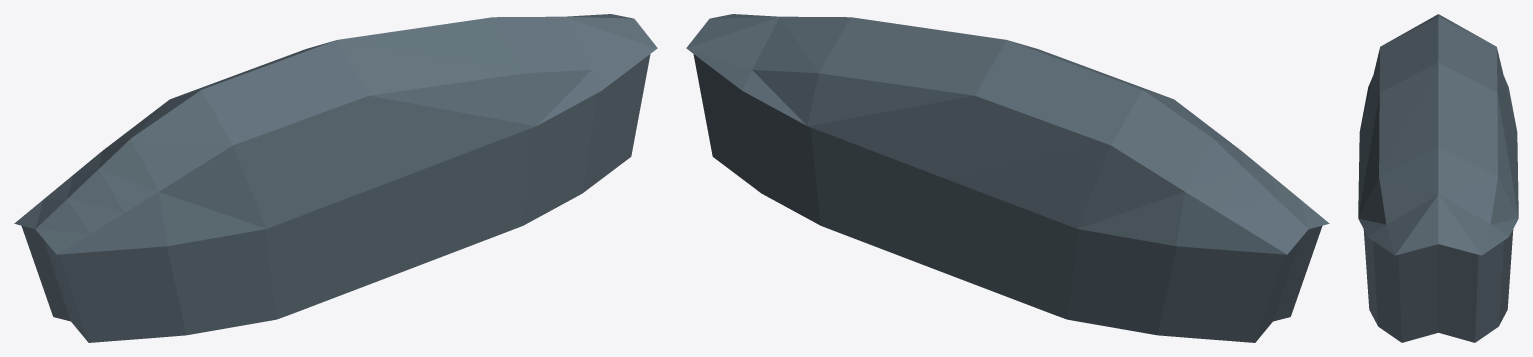
File: f18.glass.glb
3 views of the same model, side by side, from view 1: azimuth 30°, elevation 25°; view 2: azimuth 150°, elevation 25°; view 3: azimuth 270°, elevation 25° (orthographic). The views are drawn at different scales.
Visible parts, largest first — view 1: glass; view 2: glass; view 3: glass.
Boxes of the visible parts, x1,y1,x2,y2 form: glass: [14, 14, 657, 342]; glass: [686, 14, 1329, 342]; glass: [1358, 14, 1518, 342].
Bounding box in the file's own units: 3.06 × 1.12 × 0.767.
